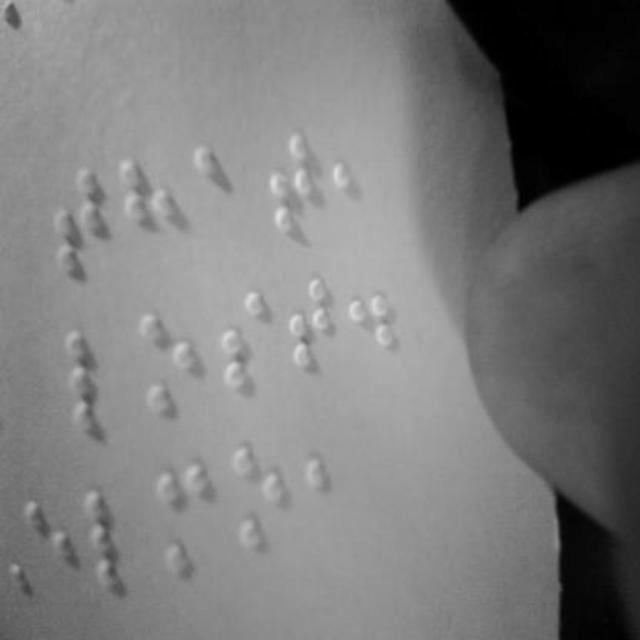braiile: (84, 484, 148, 606), (118, 152, 184, 266), (284, 272, 344, 388), (228, 440, 290, 552), (262, 134, 320, 250), (132, 308, 194, 414), (156, 462, 212, 576), (50, 170, 108, 276), (28, 494, 84, 602), (192, 140, 246, 250), (68, 328, 126, 429), (220, 292, 276, 396)
